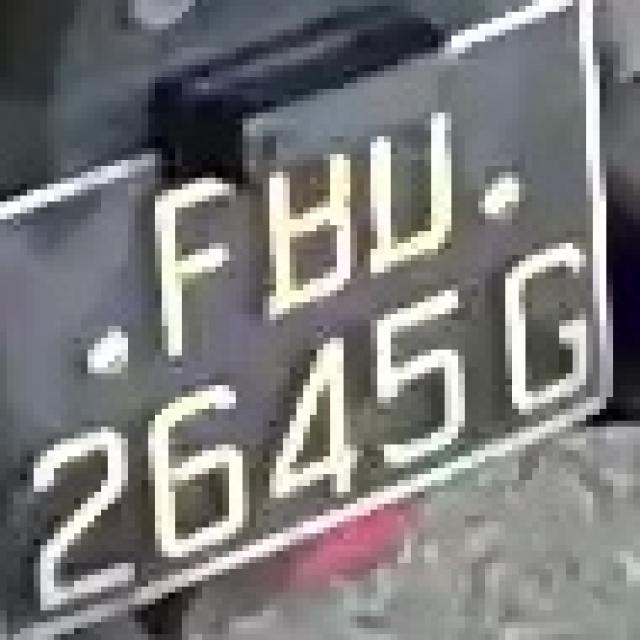2: (34, 421, 148, 628)
4: (236, 338, 370, 516)
5: (357, 290, 499, 498)
6: (148, 373, 276, 569)
B: (243, 130, 357, 332)
D: (364, 101, 485, 284)
F: (135, 154, 229, 367)
G: (485, 237, 600, 468)
